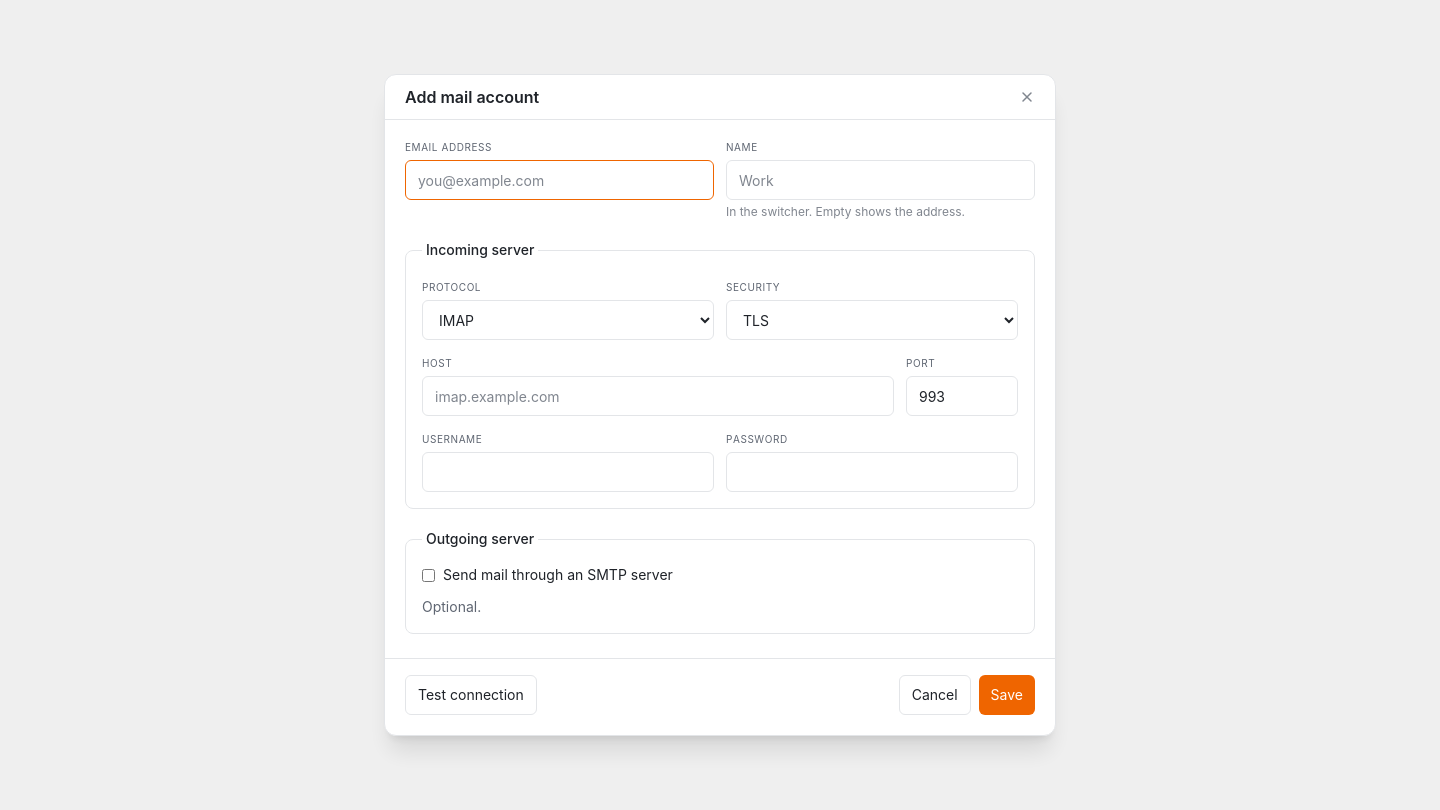
it: adding an email config › says what the server refused
Click the button "Save": (1007, 695) [979,675,1035,715]
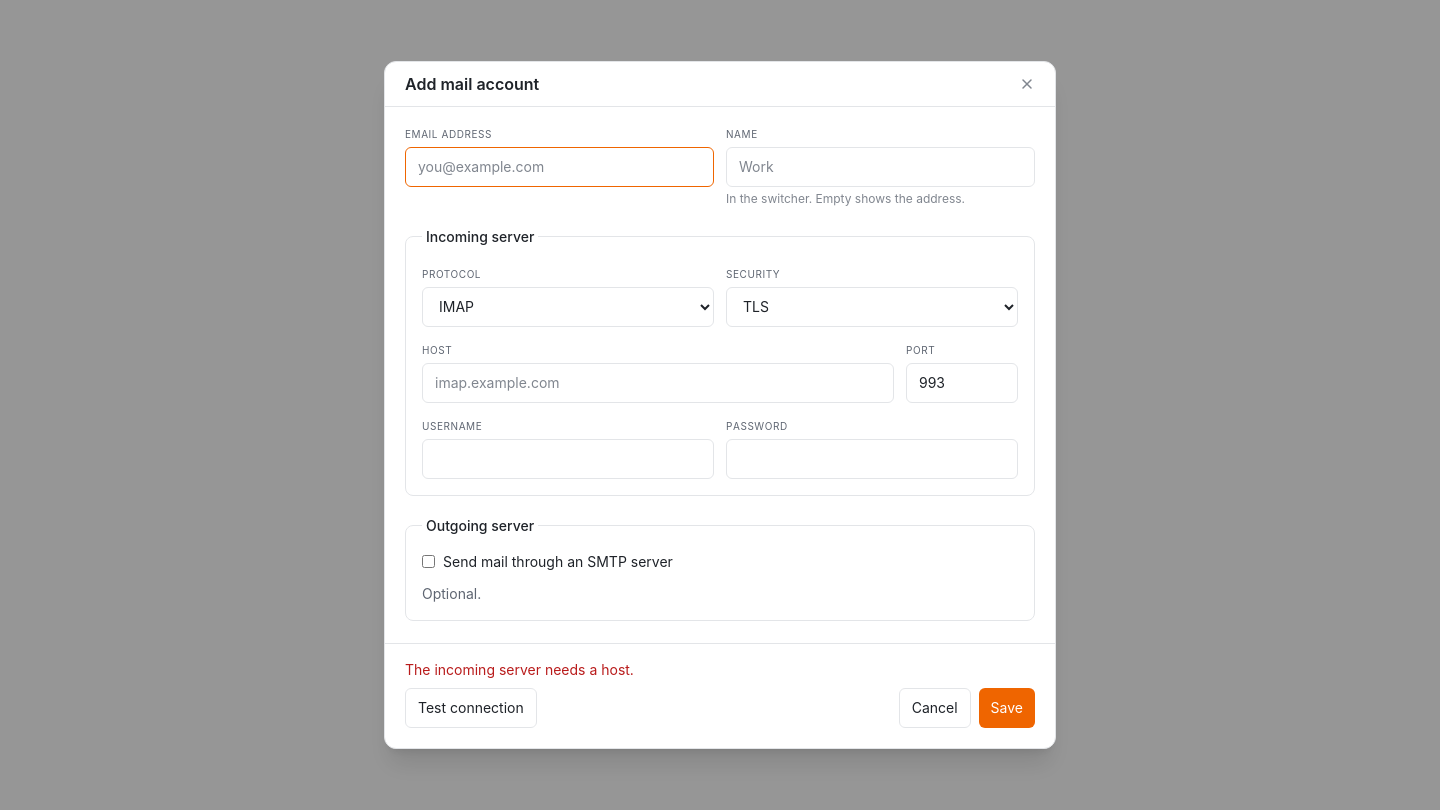
Now the text "The incoming server needs a host." is shown, box [405,661,634,678]
